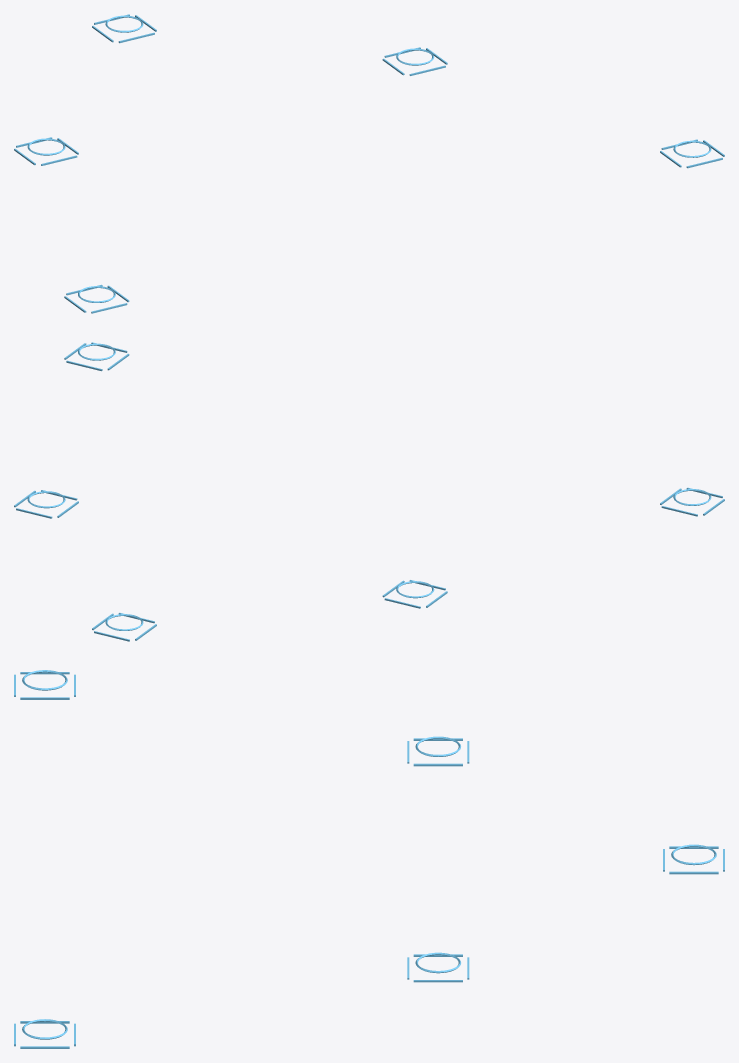
File: EggPedestalGlow.fbx
The picture shows the model from 3 angles, top to bottom: view 1: azimuth 30°, elevation 25°; view 2: azimuth 150°, elevation 25°; view 3: azimuth 270°, elevation 25°; orthographic projection. The views are drawn at different scales.
Parts seen in each view (by area): view 1: PedGlow0.001; view 2: PedGlow0.001; view 3: PedGlow0.001.
Boxes of the visible parts, x1=… form: PedGlow0.001: x1=14, y1=14, x2=724, y2=313; PedGlow0.001: x1=14, y1=342, x2=724, y2=641; PedGlow0.001: x1=14, y1=670, x2=724, y2=1048.
Size of the model in its own units: 9030 by 85 by 7230.
